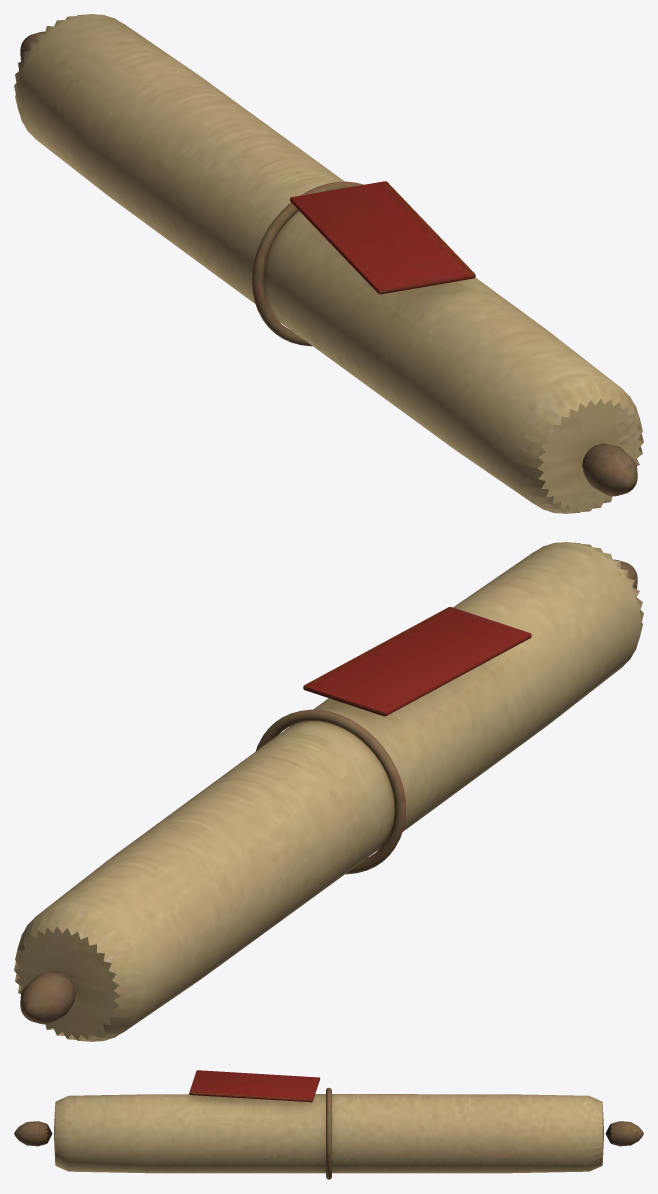
The model's file is hippocrates.glb.
3 renders of one model, top to bottom at view 1: azimuth 30°, elevation 25°; view 2: azimuth 150°, elevation 25°; view 3: azimuth 270°, elevation 25°, orthographic. The views are drawn at different scales.
Parts seen in each view (by area): view 1: hippocrates; view 2: hippocrates; view 3: hippocrates.
Part boxes in pixels (x1=…): hippocrates: x1=14, y1=14, x2=643, y2=513; hippocrates: x1=14, y1=542, x2=643, y2=1041; hippocrates: x1=14, y1=1070, x2=643, y2=1179.
Size of the model in its own units: 0.0369 by 0.038 by 0.2517.
Materials: 1 (1 with a texture image).
